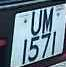1: (20, 36, 30, 65), (51, 30, 59, 57)
5: (26, 35, 40, 64)
7: (41, 32, 52, 59)
M: (41, 6, 55, 34)
U: (28, 9, 43, 37)
